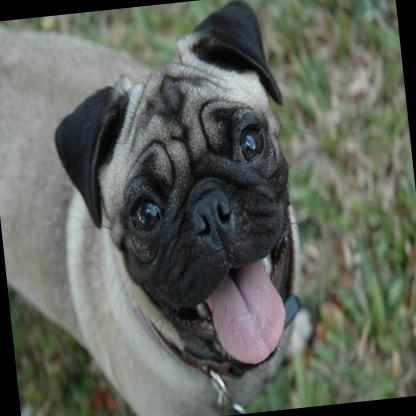pug: (0, 0, 318, 416)
